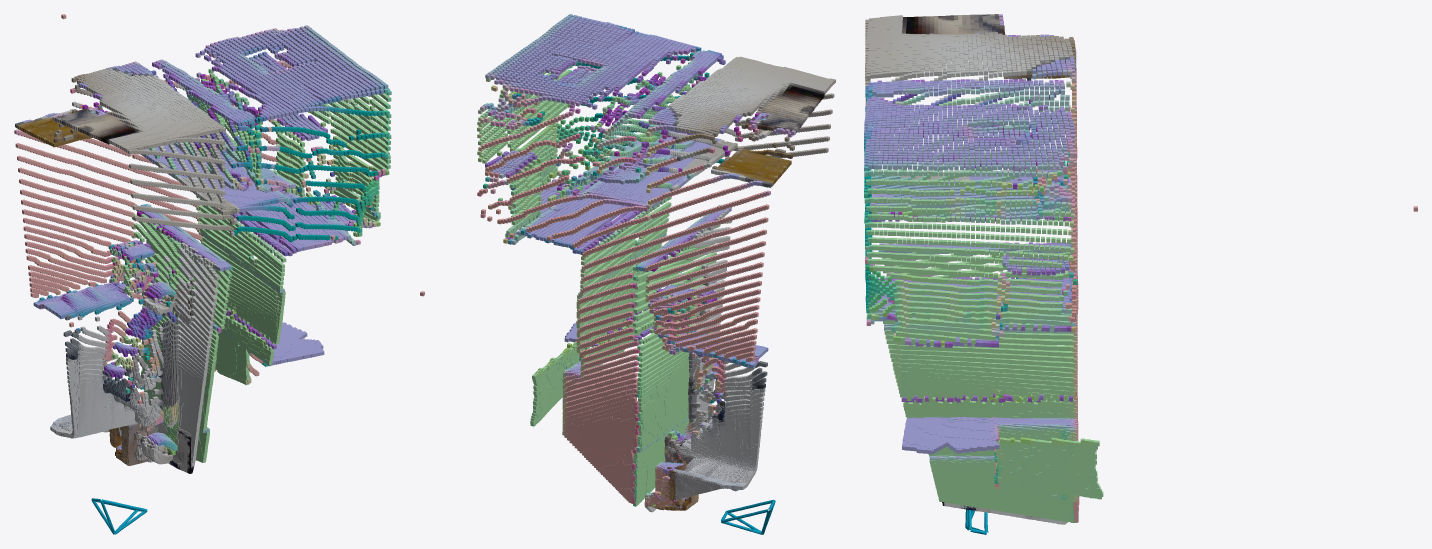
The picture shows the model from 3 angles, left to right: view 1: azimuth 30°, elevation 25°; view 2: azimuth 150°, elevation 25°; view 3: azimuth 270°, elevation 25°; orthographic projection. The views are drawn at different scales.
Size of the model in its own units: 4.59 by 6.44 by 6.53.
